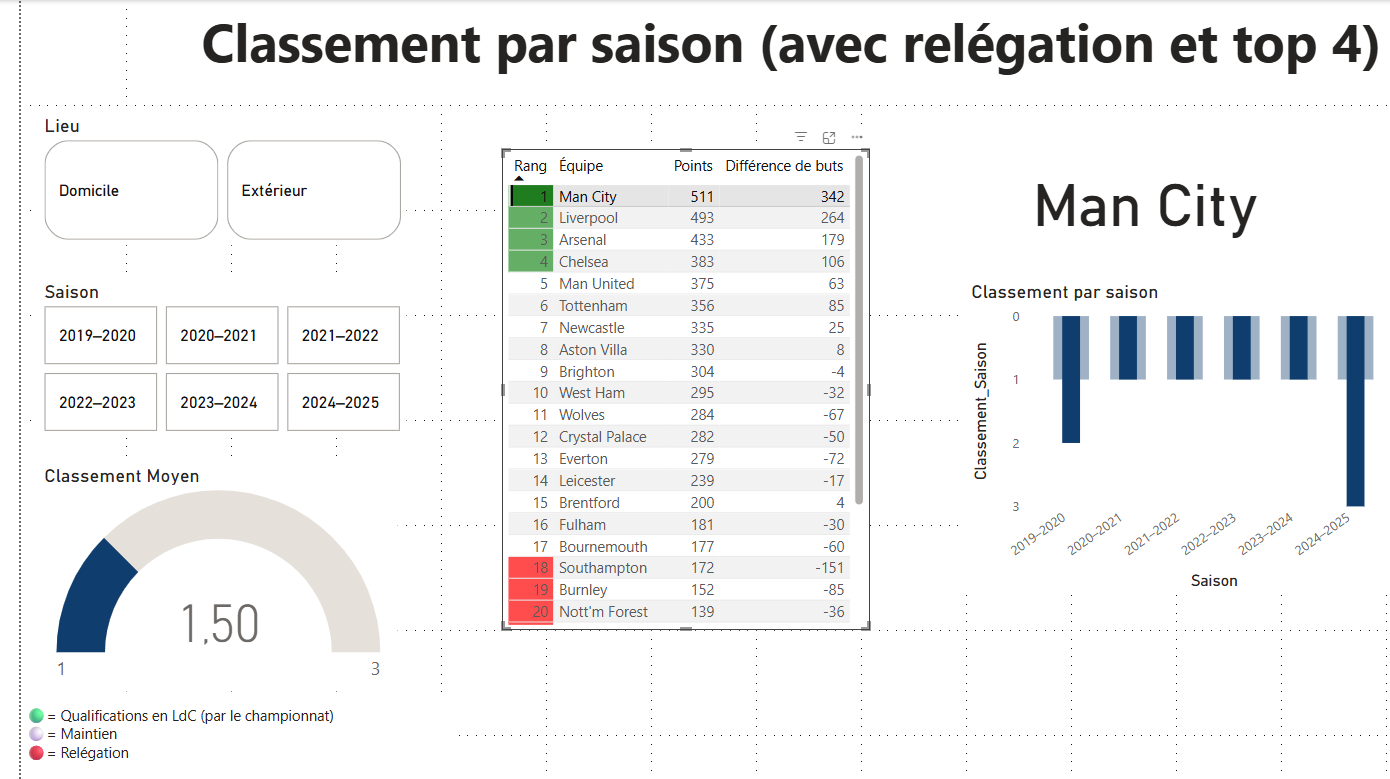

The dashboard page shown, as its layout file describes it:
{"tool":"powerbi","page":{"name":"Classement","canvas":[1280,720],"ordinal":1},"visuals":[{"type":"tableEx","fields":{"Values":["PL23 (2).Rang","PL23 (2).Équipe","Sum(PL23 (2).Points)","Sum(PL23 (2).GoalAverage)"]},"box":[440,136,336,440],"z":0},{"type":"advancedSlicerVisual","fields":{"Values":["PL23 (2).Lieu"]},"box":[16,104,336,120],"z":2000},{"type":"textbox","box":[0,480,144,152],"z":3000},{"type":"textbox","box":[160,0,1120,96],"z":4000},{"type":"textbox","box":[0,640,400,80],"z":5000},{"type":"lineStackedColumnComboChart","title":"Classement par saison","fields":{"Category":["PL23 (2).Saison"],"Y":["PL23 (2).Classement_Saison"]},"box":[864,256,400,288],"z":6500},{"type":"card","fields":{"Values":["PL23 (2).ÉquipeSélectionnée"]},"box":[776,104,504,152],"z":6501},{"type":"advancedSlicerVisual","fields":{"Values":["PL23 (2).Saison"]},"box":[16,256,336,144],"z":6502},{"type":"gauge","title":"Classement Moyen","fields":{"Y":["PL23 (2).ClassementMoyen"],"MinValue":["PL23 (2).MeilleurClassement"],"MaxValue":["PL23 (2).PireClassement"]},"box":[16,424,328,208],"z":6503}]}

Visuals, with their boxes in screenshot pixels (x1, y1, x2, y2), scaled from the page's 1280x720 canvas onto the 1390x779 screenshot:
tableEx - PL23 (2).Rang x PL23 (2).Équipe: (478, 147, 843, 623)
advancedSlicerVisual - PL23 (2).Lieu: (17, 113, 382, 242)
textbox: (0, 519, 156, 684)
textbox: (174, 0, 1389, 104)
textbox: (0, 692, 434, 778)
"Classement par saison" lineStackedColumnComboChart: (938, 277, 1373, 589)
card - PL23 (2).ÉquipeSélectionnée: (843, 113, 1389, 277)
advancedSlicerVisual - PL23 (2).Saison: (17, 277, 382, 433)
"Classement Moyen" gauge: (17, 459, 374, 684)
